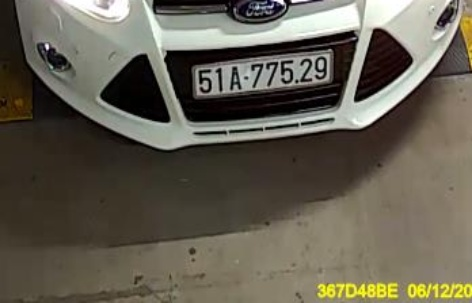plate: (188, 51, 339, 94)
